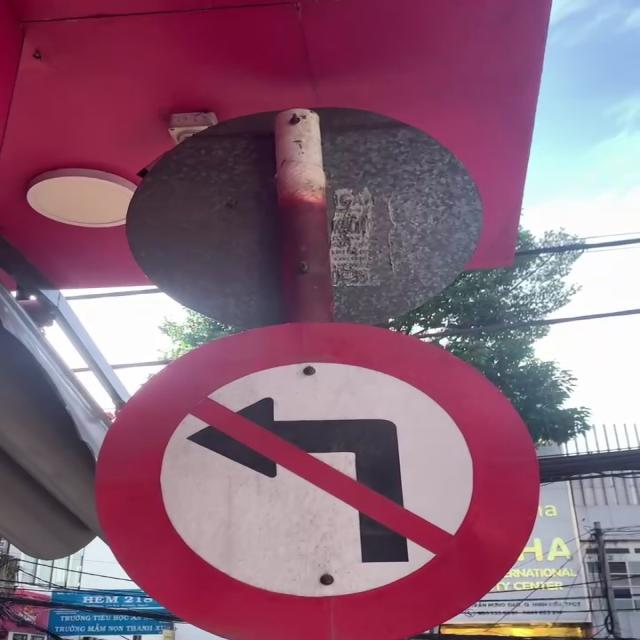Cam_Re_Trai: (91, 321, 542, 637)
